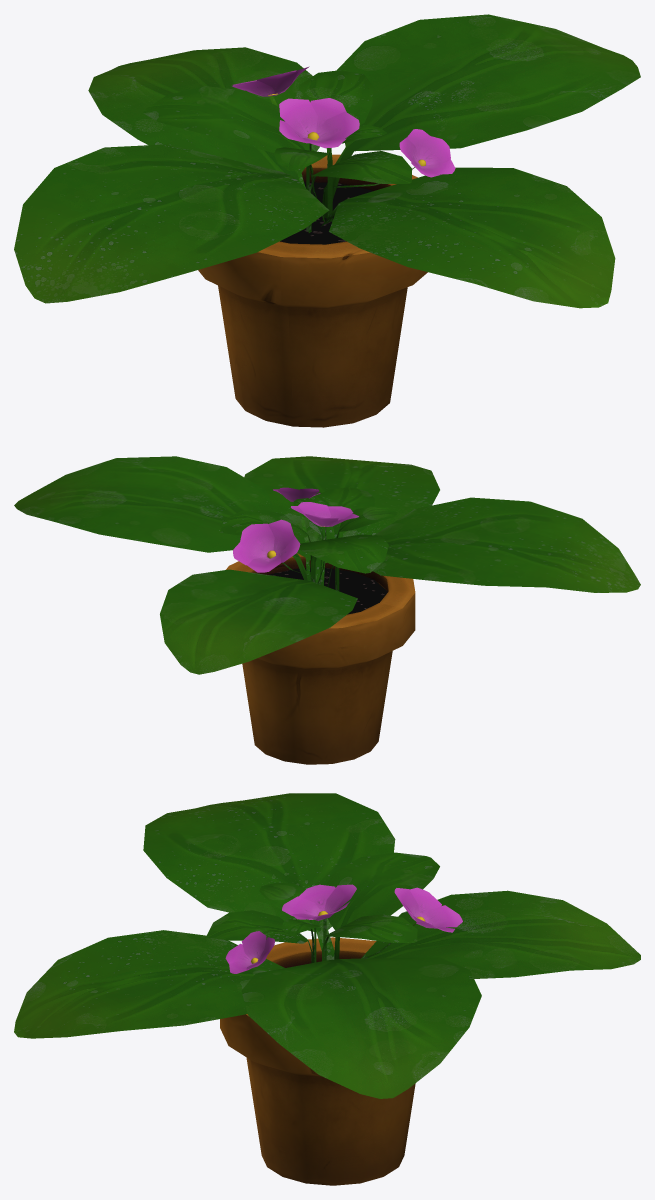
The model's file is lowpoly_flower.glb.
The picture shows the model from 3 angles, top to bottom: view 1: azimuth 30°, elevation 25°; view 2: azimuth 150°, elevation 25°; view 3: azimuth 270°, elevation 25°; orthographic projection. The views are drawn at different scales.
Parts seen in each view (by area): view 1: pCube5, pCylinder1, pCube7, pCube4, pCube6, pCube8, pSphere3, pCube9, pCube10, pSphere4, pCube1, pSphere2 (+1 smaller); view 2: pCylinder1, pCube5, pCube7, pCube6, pCube4, pCube8, pSphere2, pCube1, pCube10, pCube9, pSphere3, pCube11; view 3: pCube7, pCube5, pCylinder1, pCube4, pCube6, pCube8, pCube10, pCube9, pSphere3, pSphere2, pSphere4, pCube11.
Part boxes in pixels (left/top/right/bottom): pCube5: left=14, top=144, right=329, bottom=303; pCylinder1: left=198, top=154, right=427, bottom=427; pCube7: left=322, top=14, right=640, bottom=218; pCube4: left=321, top=167, right=615, bottom=308; pCube6: left=88, top=47, right=319, bottom=181; pCube8: left=143, top=86, right=313, bottom=194; pSphere3: left=279, top=98, right=359, bottom=148; pCube9: left=295, top=70, right=373, bottom=221; pCube10: left=308, top=151, right=412, bottom=232; pSphere4: left=399, top=129, right=455, bottom=177; pCube1: left=280, top=182, right=372, bottom=244; pSphere2: left=232, top=66, right=309, bottom=96; pCylinder1: left=226, top=553, right=415, bottom=764; pCube5: left=327, top=497, right=640, bottom=592; pCube7: left=14, top=456, right=307, bottom=580; pCube6: left=160, top=569, right=357, bottom=674; pCube4: left=244, top=456, right=439, bottom=585; pCube8: left=299, top=534, right=388, bottom=582; pSphere2: left=233, top=519, right=300, bottom=572; pCube1: left=269, top=568, right=387, bottom=614; pCube10: left=309, top=487, right=374, bottom=590; pCube9: left=219, top=510, right=312, bottom=574; pSphere3: left=291, top=502, right=358, bottom=526; pCube11: left=336, top=506, right=397, bottom=590; pCube7: left=241, top=957, right=481, bottom=1098; pCube5: left=143, top=793, right=395, bottom=960; pCylinder1: left=220, top=937, right=415, bottom=1185; pCube4: left=14, top=930, right=284, bottom=1038; pCube6: left=361, top=890, right=640, bottom=978; pCube8: left=326, top=852, right=439, bottom=959; pCube10: left=207, top=910, right=312, bottom=963; pCube9: left=322, top=914, right=417, bottom=961; pSphere3: left=282, top=884, right=356, bottom=920; pSphere2: left=394, top=887, right=462, bottom=932; pSphere4: left=225, top=931, right=274, bottom=973; pCube11: left=259, top=882, right=316, bottom=962.
Bounding box in the file's own units: 10.02 × 4.13 × 8.78.
Materials: 1 (1 with a texture image).
